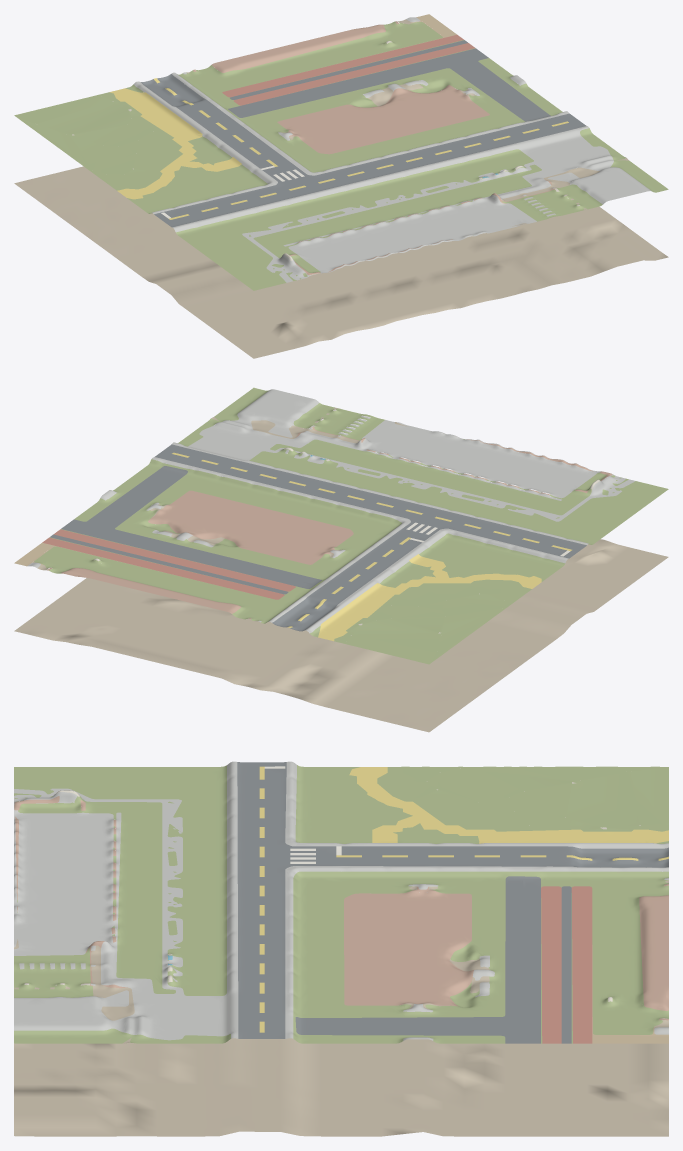
3 renders of one model, top to bottom at view 1: azimuth 30°, elevation 25°; view 2: azimuth 150°, elevation 25°; view 3: azimuth 270°, elevation 25°, orthographic. The views are drawn at different scales.
Parts seen in each view (by area): view 1: s_-10_-3__grass, s_-10_-3__soil, s_-10_-3__stone_paving, s_-10_-3__asphalt, s_-10_-3__brick_paving, s_-10_-3__yellow_marking, s_-10_-3__red_court; view 2: s_-10_-3__grass, s_-10_-3__soil, s_-10_-3__stone_paving, s_-10_-3__asphalt, s_-10_-3__brick_paving, s_-10_-3__yellow_marking, s_-10_-3__red_court; view 3: s_-10_-3__grass, s_-10_-3__soil, s_-10_-3__stone_paving, s_-10_-3__asphalt, s_-10_-3__brick_paving, s_-10_-3__red_court, s_-10_-3__yellow_marking, s_-10_-3__timber_deck.
Boxes of the visible parts, bbox=[...] form: s_-10_-3__grass: bbox=[14, 21, 668, 290]; s_-10_-3__soil: bbox=[14, 19, 668, 358]; s_-10_-3__stone_paving: bbox=[133, 17, 651, 282]; s_-10_-3__asphalt: bbox=[141, 40, 586, 227]; s_-10_-3__brick_paving: bbox=[193, 21, 556, 275]; s_-10_-3__yellow_marking: bbox=[109, 78, 568, 219]; s_-10_-3__red_court: bbox=[222, 34, 474, 105]; s_-10_-3__grass: bbox=[34, 387, 668, 664]; s_-10_-3__soil: bbox=[14, 407, 668, 732]; s_-10_-3__stone_paving: bbox=[27, 389, 635, 633]; s_-10_-3__asphalt: bbox=[50, 444, 586, 631]; s_-10_-3__brick_paving: bbox=[47, 427, 612, 619]; s_-10_-3__yellow_marking: bbox=[172, 452, 571, 641]; s_-10_-3__red_court: bbox=[42, 529, 295, 599]; s_-10_-3__grass: bbox=[14, 765, 668, 1043]; s_-10_-3__soil: bbox=[14, 863, 668, 1136]; s_-10_-3__stone_paving: bbox=[14, 761, 668, 1040]; s_-10_-3__asphalt: bbox=[237, 762, 668, 1043]; s_-10_-3__brick_paving: bbox=[14, 796, 668, 1020]; s_-10_-3__red_court: bbox=[541, 886, 592, 1043]; s_-10_-3__yellow_marking: bbox=[259, 766, 668, 1032]; s_-10_-3__timber_deck: bbox=[592, 945, 668, 1043].
Size of the model in its own units: 128 by 23.61 by 128.
